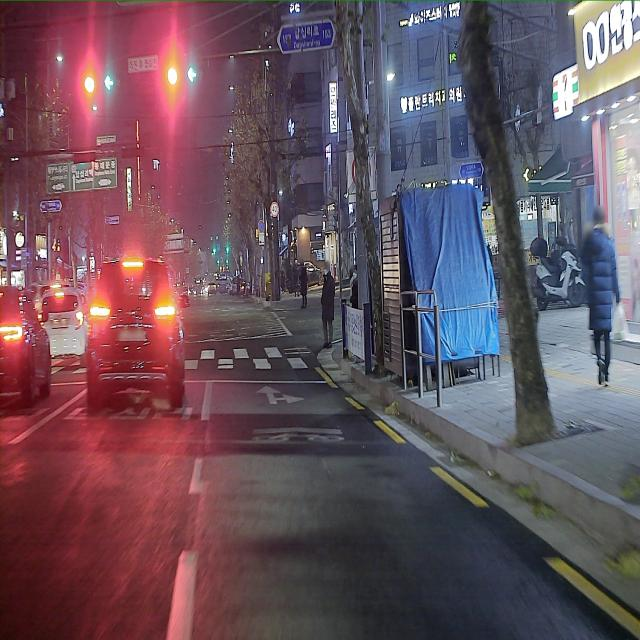Red Light: (167, 66, 178, 86), (84, 76, 96, 92)
